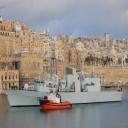Fragata: (4, 49, 124, 109)
